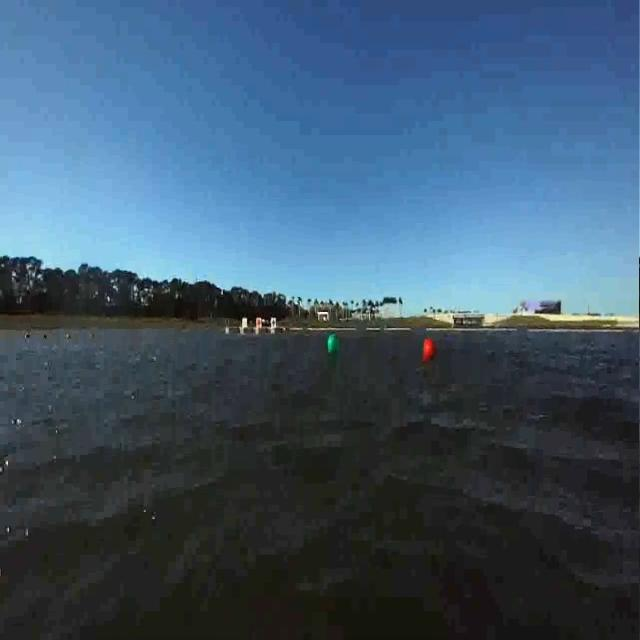green-buoy: (329, 335, 341, 353)
red-buoy: (423, 340, 436, 362)
